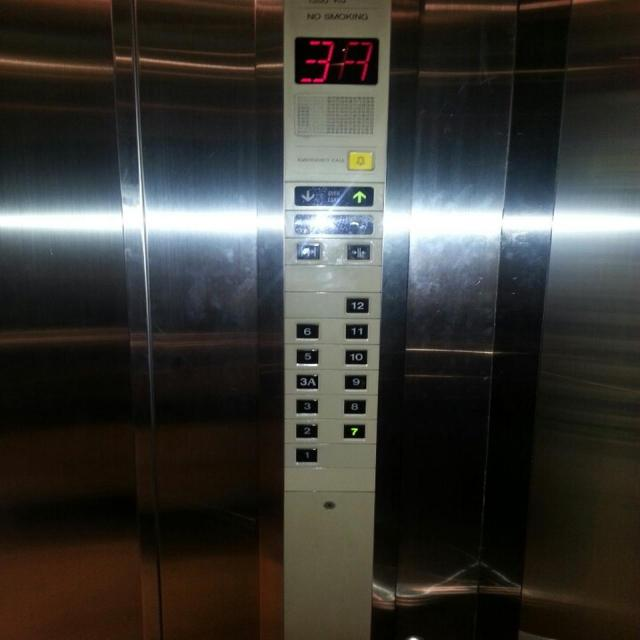1: (294, 446, 318, 462)
10: (343, 347, 368, 365)
11: (344, 322, 369, 339)
12: (344, 295, 370, 314)
2: (294, 422, 318, 438)
3: (294, 398, 318, 414)
3A: (295, 372, 319, 390)
5: (295, 347, 319, 365)
6: (294, 320, 320, 340)
7: (341, 422, 367, 438)
8: (342, 398, 367, 414)
9: (343, 373, 367, 390)
alarm: (346, 150, 374, 170)
close: (345, 242, 372, 260)
led: (288, 33, 381, 89)
open: (294, 240, 323, 260)
